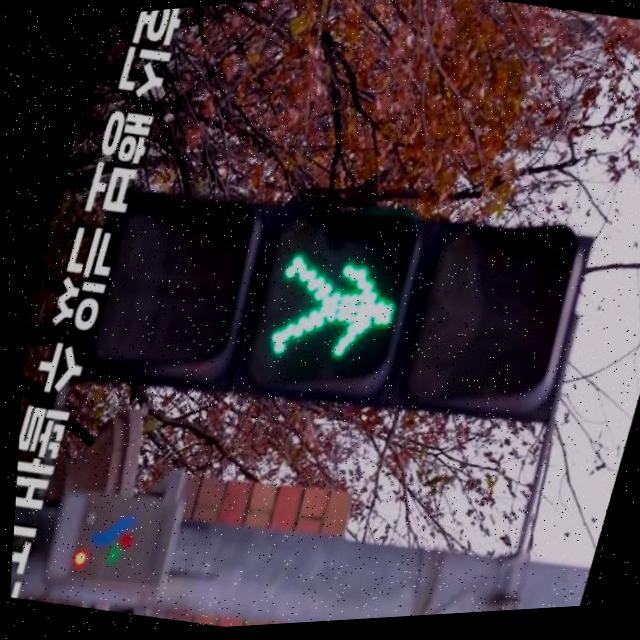green_light: (239, 219, 415, 397)
